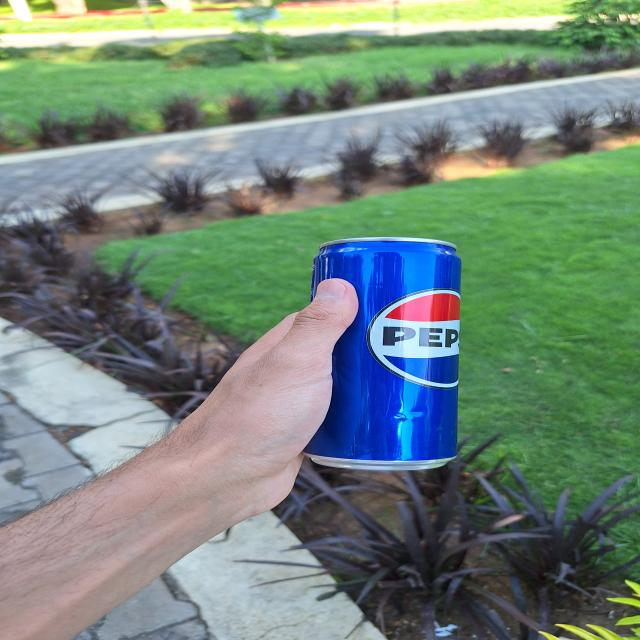Pepsi: (315, 238, 460, 469)
